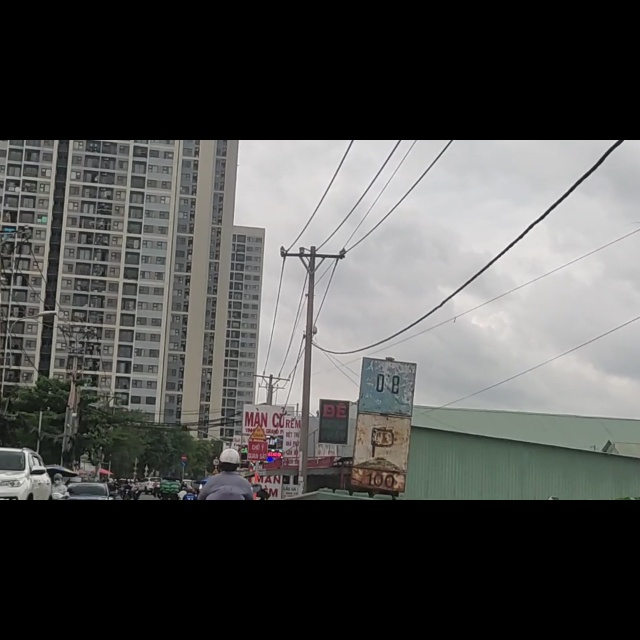bien_cam: (249, 504, 267, 535)
